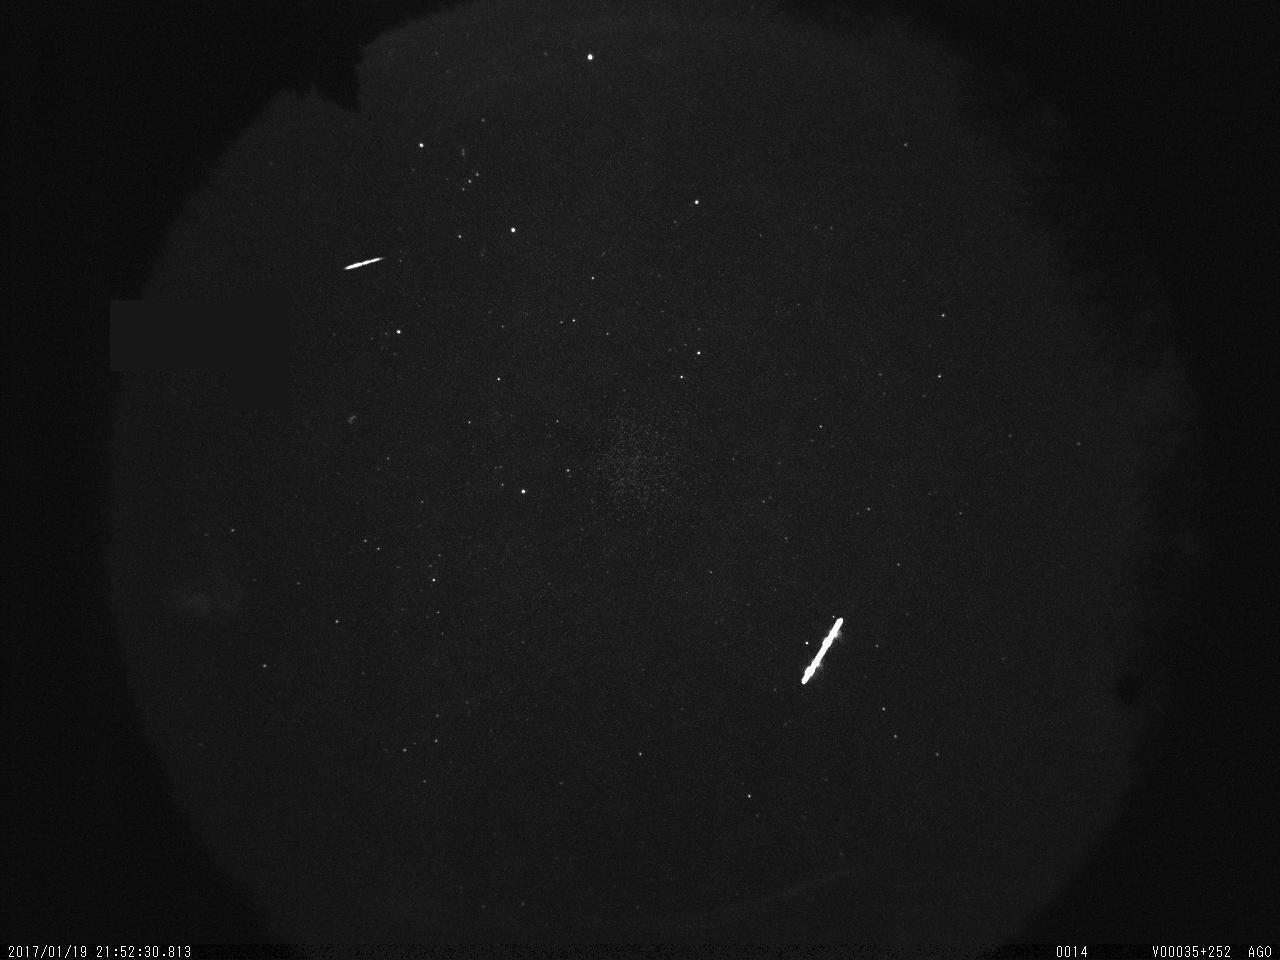Meteor: (330, 248, 390, 274)
